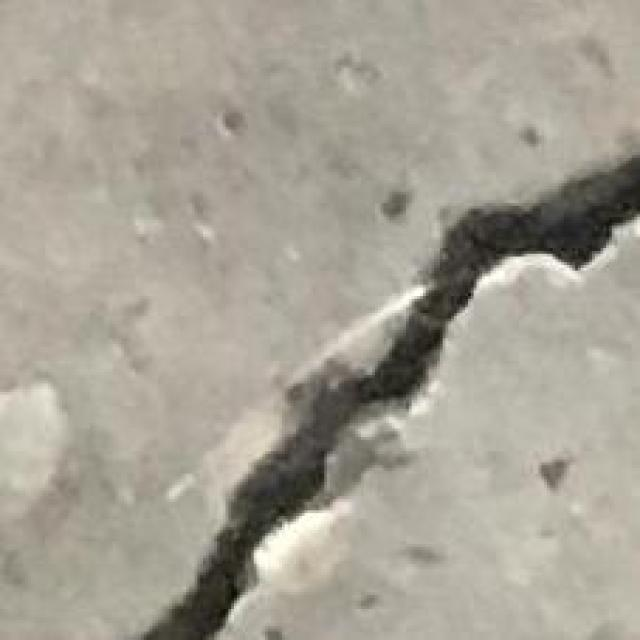diagonal crack: (138, 153, 639, 639)
